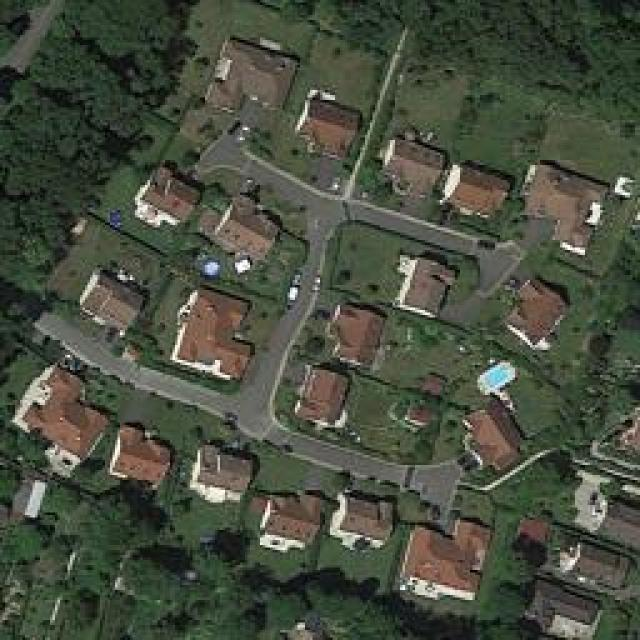City: (0, 65, 628, 587)
